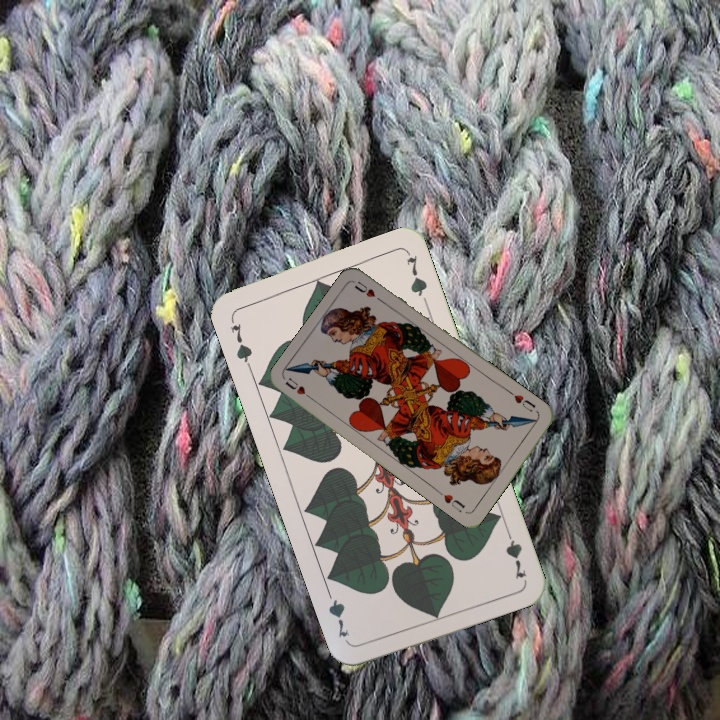G7: (501, 523, 529, 582), (226, 319, 255, 370)
HU: (281, 374, 317, 404), (506, 388, 538, 415)
